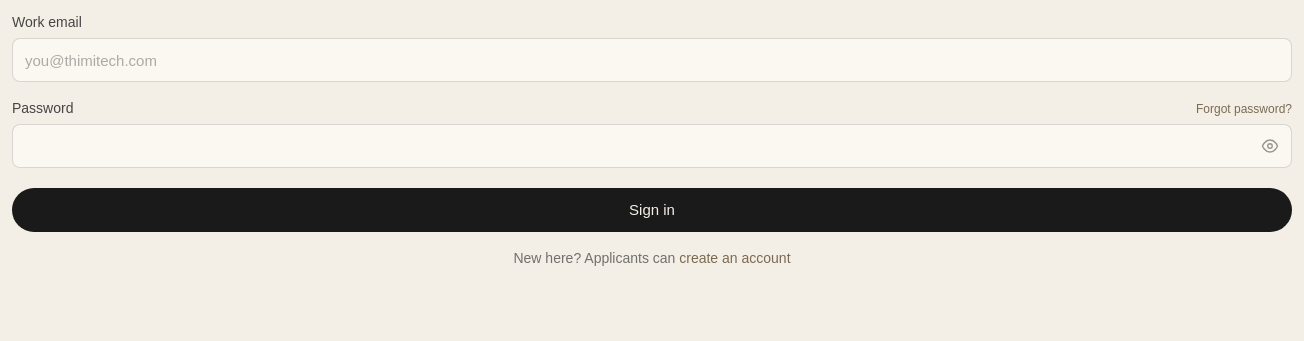
it: AuthForm › maps a 401 to a clear message
Type "a@b.co" into the field labelled "Work email" at (652, 60), box [12,38,1292,82]
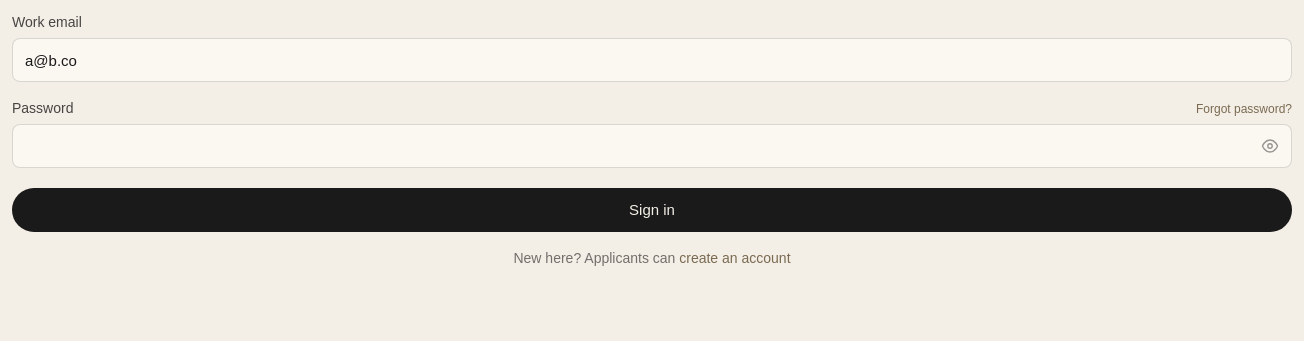
Type "secret" into the password field labelled "Password" at (652, 146), box [12,124,1292,168]
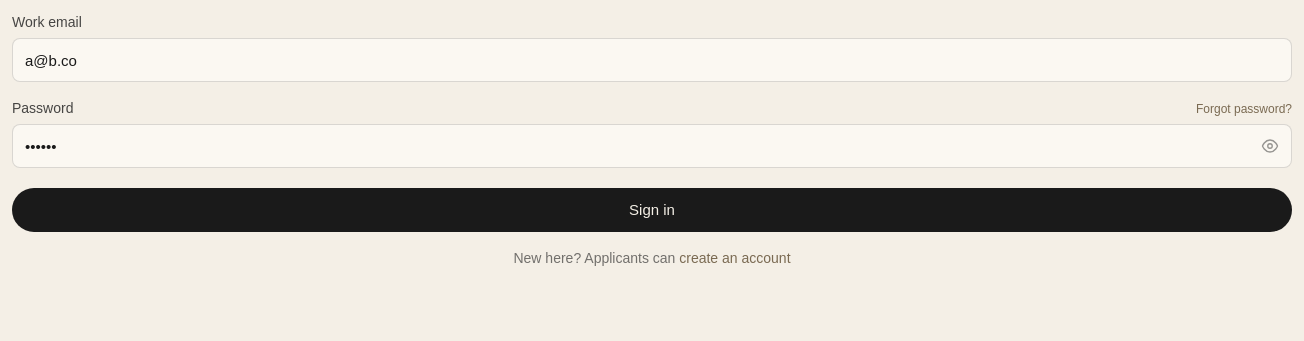
Submit the form
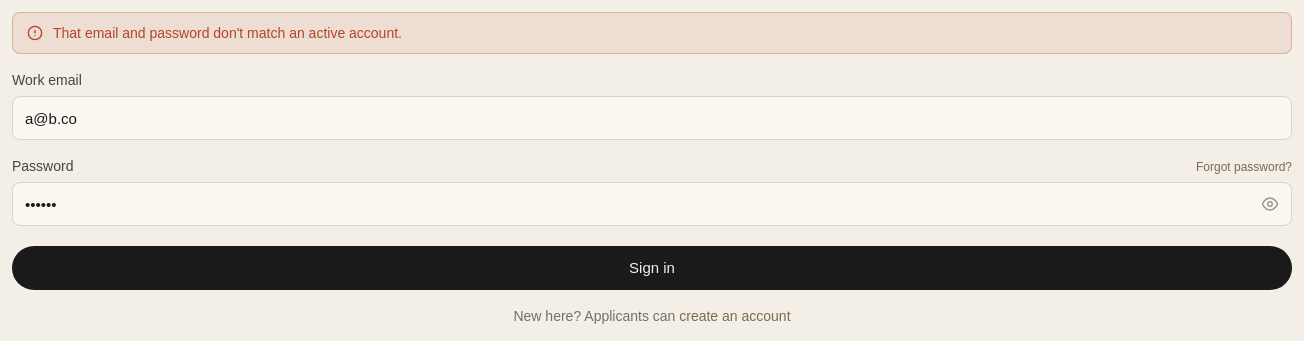
Check: the message "That email and password don't match an active account." is shown, box [12,12,1292,54]
